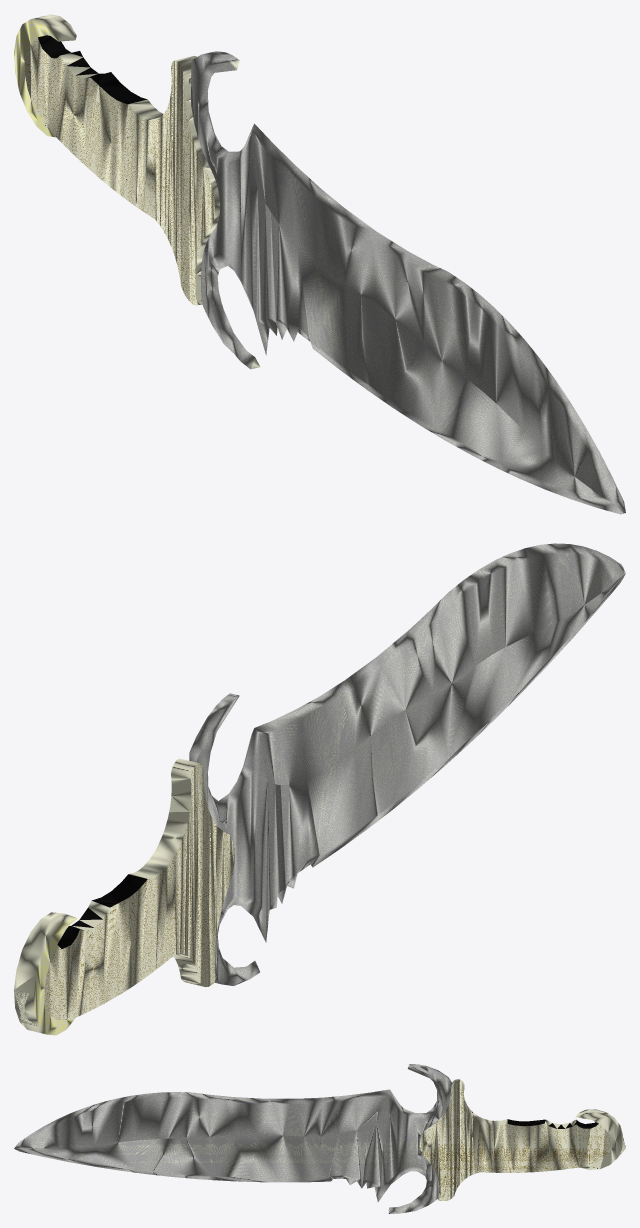
The model's file is model_align.obj.
The picture shows the model from 3 angles, top to bottom: view 1: azimuth 30°, elevation 25°; view 2: azimuth 150°, elevation 25°; view 3: azimuth 270°, elevation 25°; orthographic projection. The views are drawn at different scales.
Size of the model in its own units: 0.00399 by 0.0568 by 0.2131.
